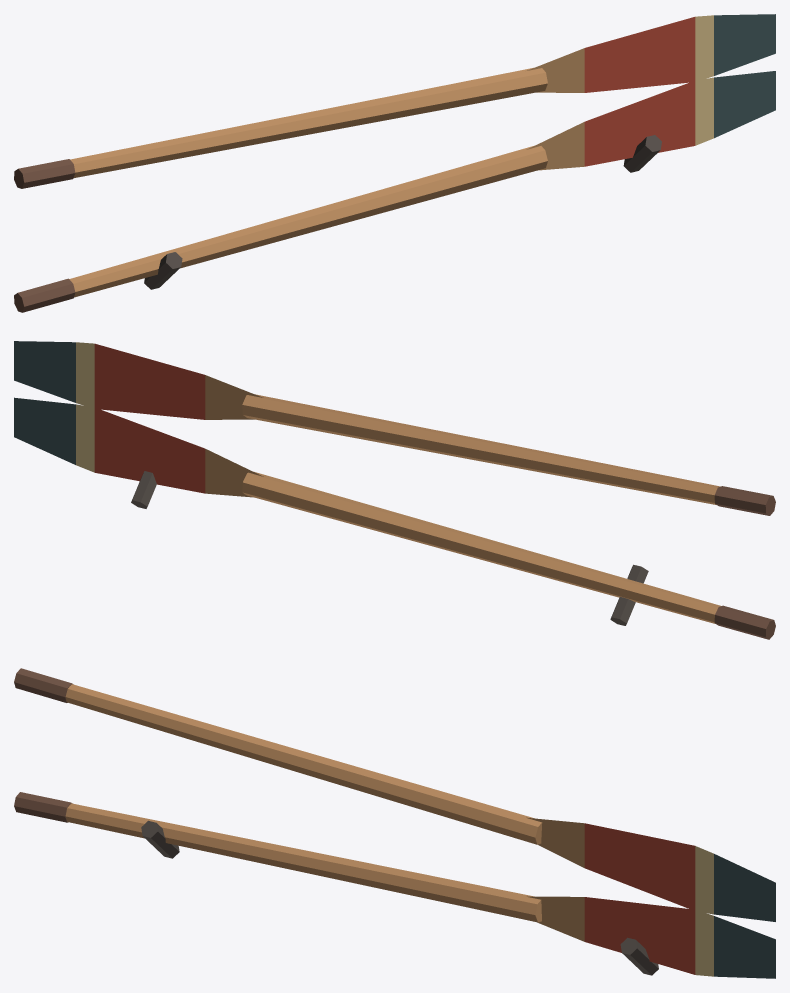
Rendered from oars.glb.
3 renders of one model, top to bottom at view 1: azimuth 30°, elevation 25°; view 2: azimuth 150°, elevation 25°; view 3: azimuth 330°, elevation 25°, orthographic.
Parts seen in each view (by area): view 1: oars; view 2: oars; view 3: oars.
Part boxes in pixels (<box>): oars: <box>14,14,775,312</box>; oars: <box>14,341,775,639</box>; oars: <box>14,668,775,978</box>.
Size of the model in its own units: 2.81 by 0.5633 by 0.1765.
